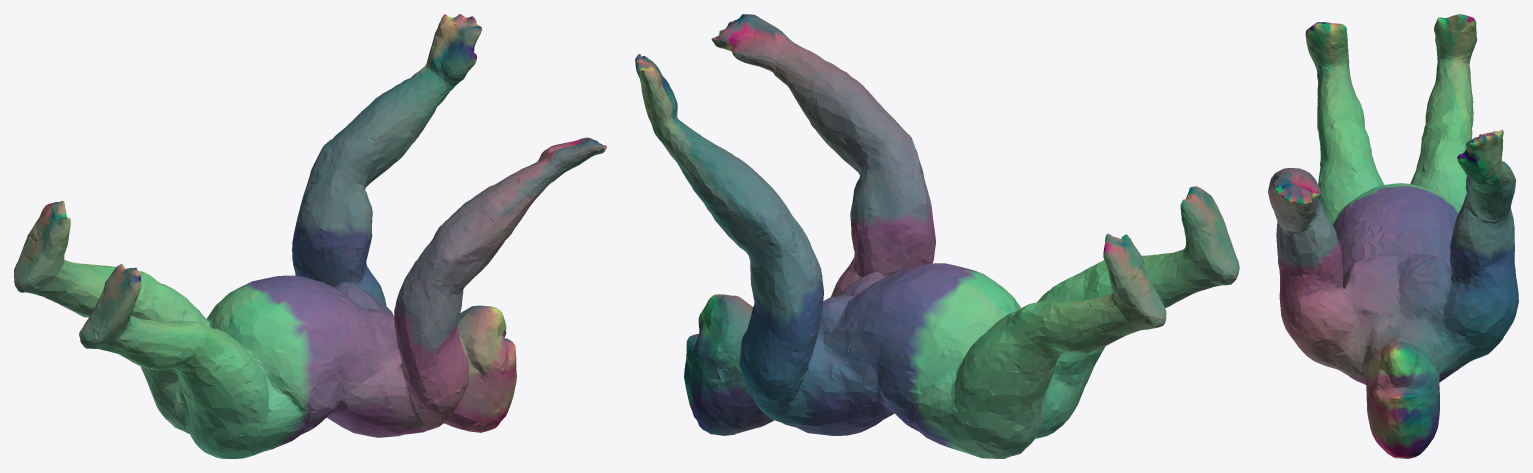
Rendered from gorilla-7.off.obj.
3 views of the same model, side by side, from view 1: azimuth 30°, elevation 25°; view 2: azimuth 150°, elevation 25°; view 3: azimuth 270°, elevation 25° (orthographic). The views are drawn at different scales.
Size of the model in its own units: 1.51 by 1.08 by 0.7257.
